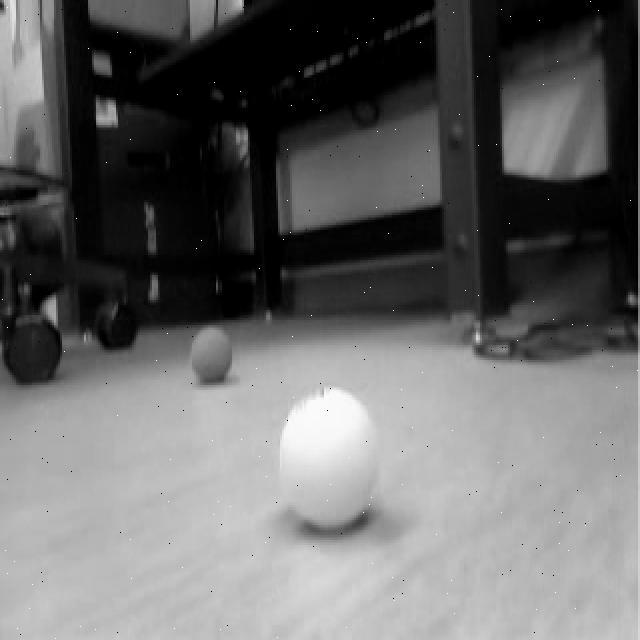ping-pong-ball: (270, 382, 392, 542), (185, 318, 238, 390)
